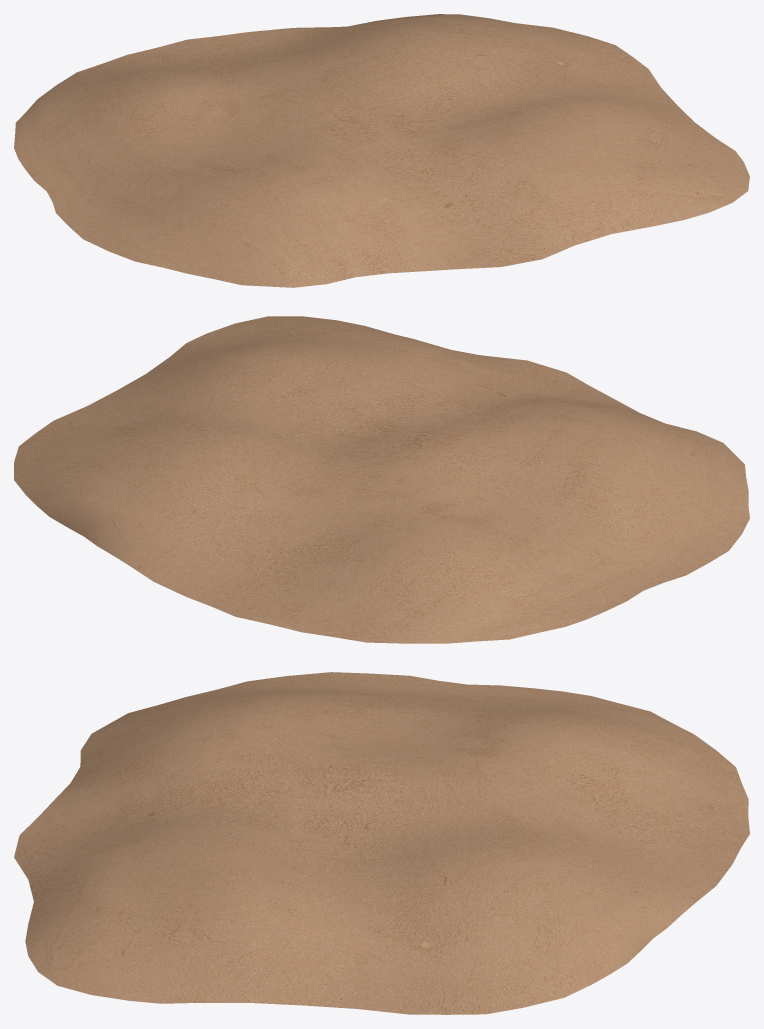
File: sand_pile_01.dae
The picture shows the model from 3 angles, top to bottom: view 1: azimuth 30°, elevation 25°; view 2: azimuth 150°, elevation 25°; view 3: azimuth 270°, elevation 25°; orthographic projection. The views are drawn at different scales.
Visible parts, largest first — view 1: Pile_01; view 2: Pile_01; view 3: Pile_01.
Part boxes in pixels (bbox=[...]): Pile_01: bbox=[14, 14, 749, 287]; Pile_01: bbox=[14, 316, 749, 643]; Pile_01: bbox=[14, 672, 749, 1014].
Size of what is drawn, in the model's own units: 3.86 by 0.2777 by 3.5.
